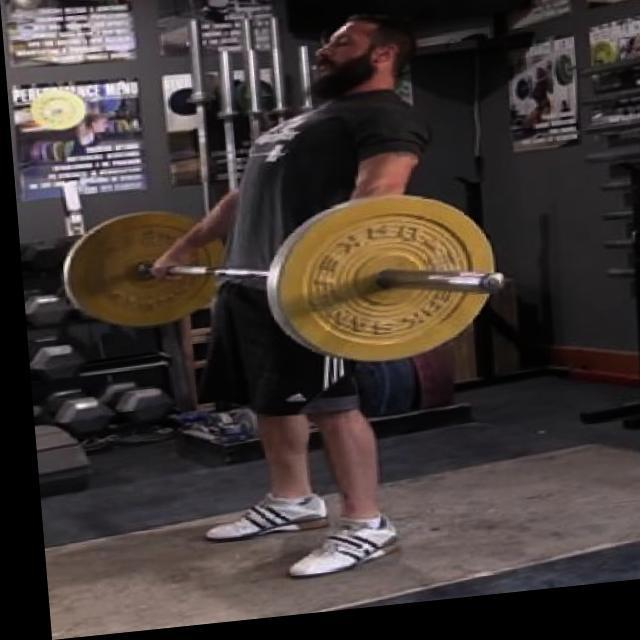barbell: (260, 189, 509, 385)
